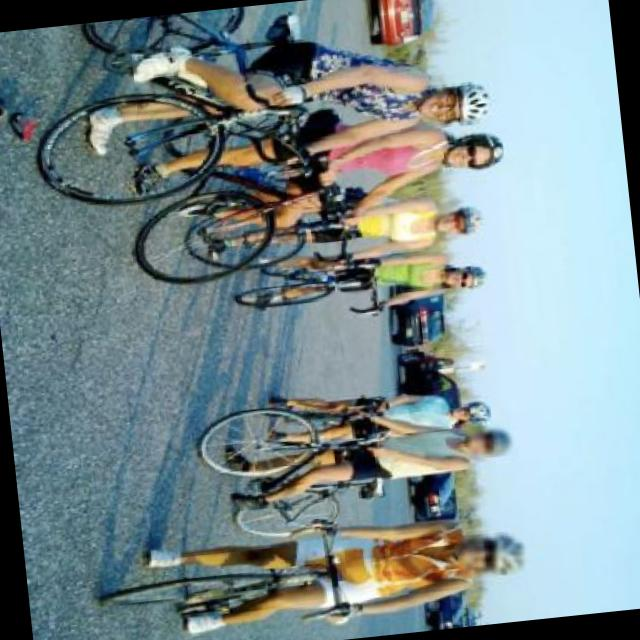With Helmet: (411, 76, 493, 132), (454, 528, 535, 581), (436, 124, 512, 177), (436, 256, 498, 300), (430, 200, 489, 240), (462, 422, 516, 461), (447, 396, 495, 426)
